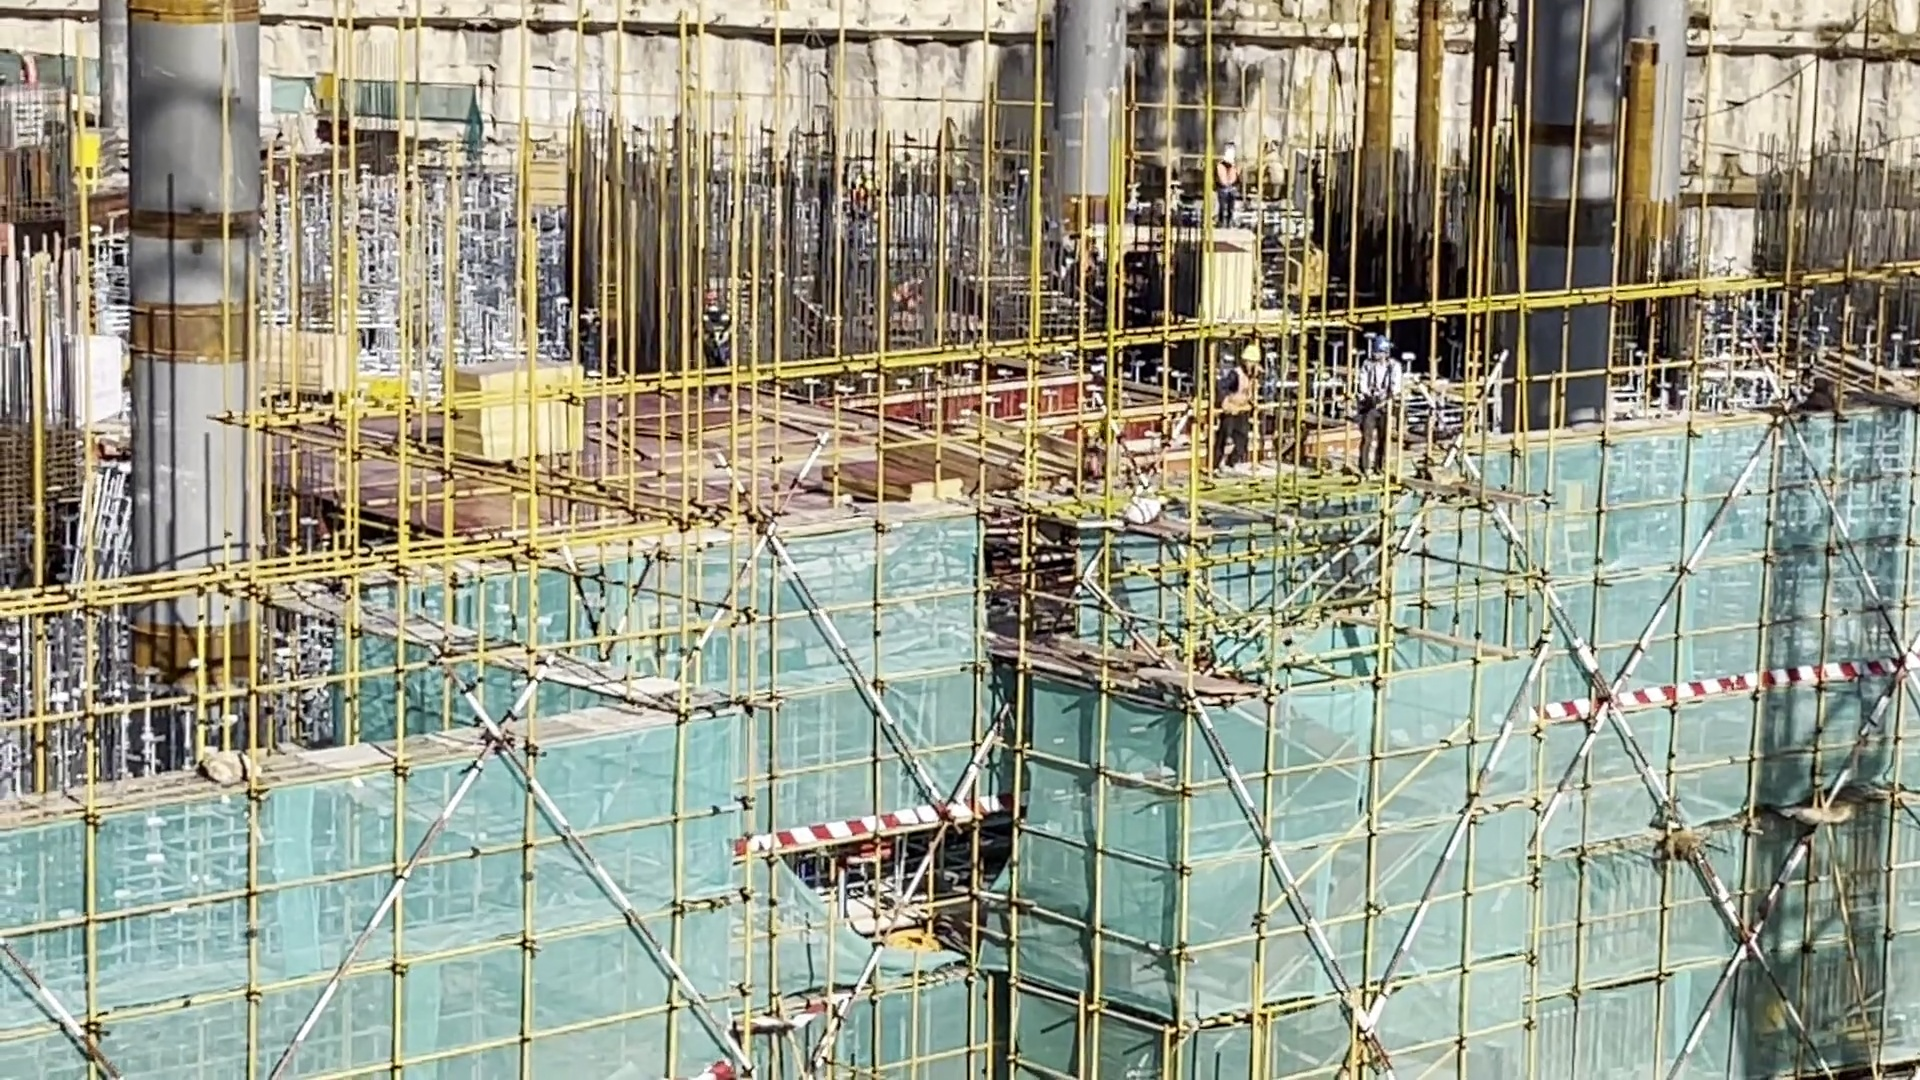board: (841, 457, 954, 544), (478, 372, 579, 457), (528, 142, 583, 209)
helmet: (1101, 423, 1144, 447), (1240, 343, 1263, 371), (1376, 336, 1397, 363), (707, 290, 725, 313), (557, 293, 572, 315), (18, 44, 31, 53)
person: (1217, 337, 1258, 472), (553, 286, 605, 381), (1363, 329, 1389, 467), (701, 290, 733, 392), (1069, 217, 1110, 296), (1216, 148, 1249, 227), (1080, 414, 1124, 467), (16, 43, 46, 81)
vest: (1211, 366, 1258, 414), (1348, 359, 1393, 402), (568, 304, 602, 355), (702, 314, 728, 365), (1068, 248, 1096, 285), (1216, 166, 1238, 193), (1087, 456, 1107, 475)
wood: (916, 439, 1056, 509), (279, 282, 353, 387)
